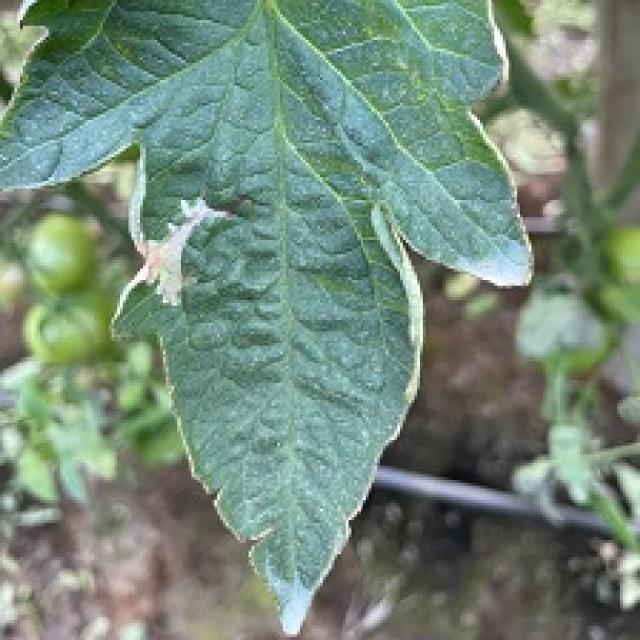Tuta absoluta: (107, 184, 244, 321)
